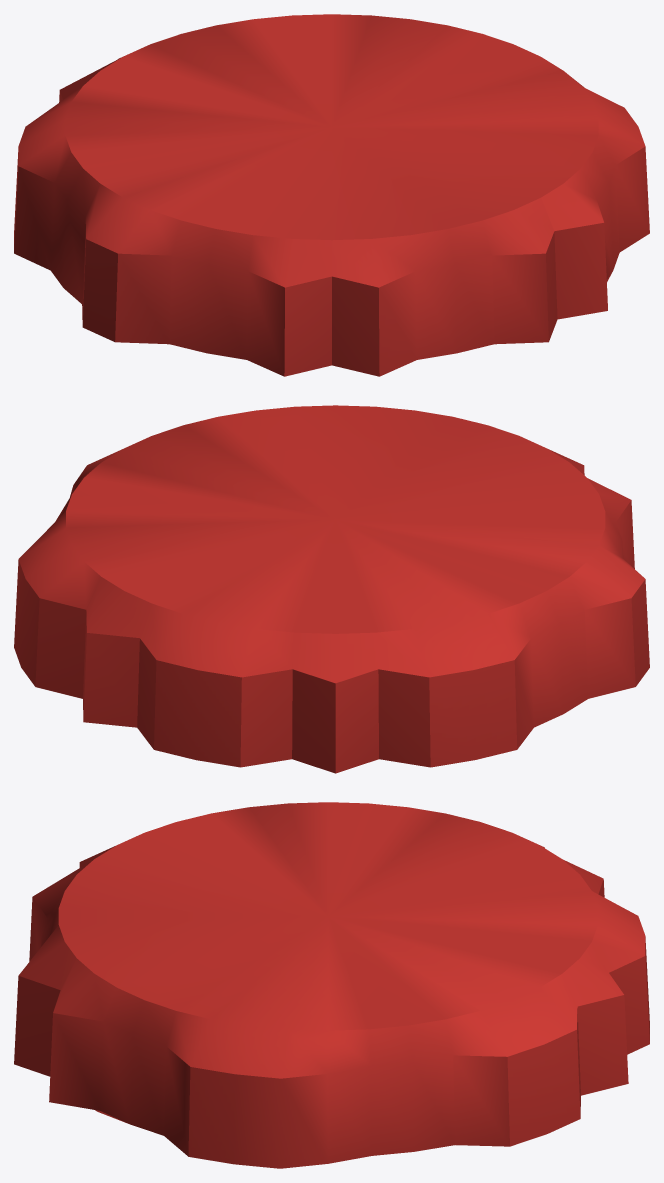
File: den_bottle_cap.glb
3 renders of one model, top to bottom at view 1: azimuth 30°, elevation 25°; view 2: azimuth 150°, elevation 25°; view 3: azimuth 270°, elevation 25°, orthographic.
Parts seen in each view (by area): view 1: den_bottle_cap; view 2: den_bottle_cap; view 3: den_bottle_cap.
Boxes of the visible parts, x1=… form: den_bottle_cap: x1=14, y1=14, x2=649, y2=376; den_bottle_cap: x1=14, y1=405, x2=649, y2=773; den_bottle_cap: x1=14, y1=802, x2=649, y2=1168.
Bounding box in the file's own units: 2.95 × 0.6 × 2.94.
